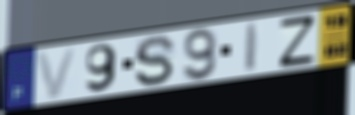9: (182, 28, 219, 81), (84, 43, 117, 93)
I: (243, 20, 262, 74)
S: (133, 34, 178, 88)
V: (34, 45, 80, 101)
Z: (278, 13, 317, 70)
